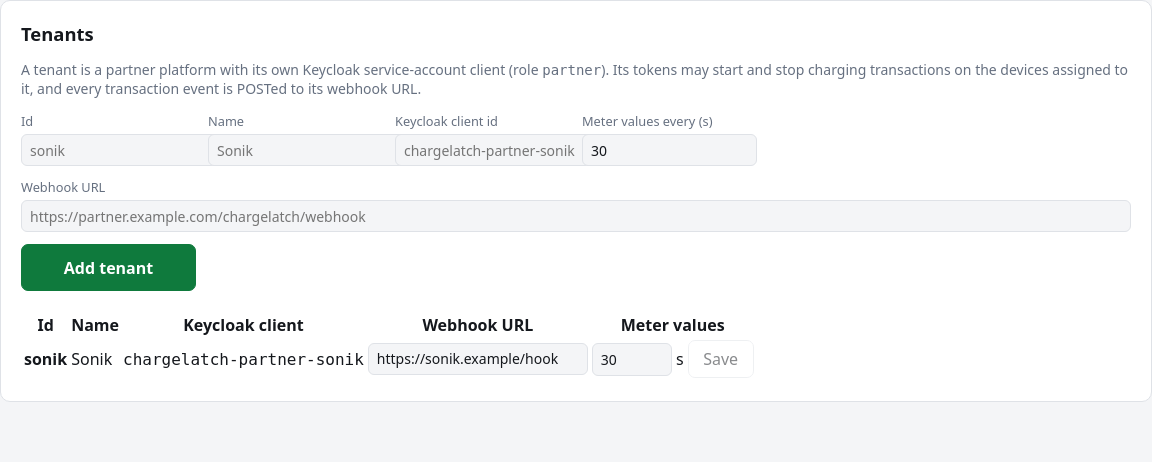
Test case: lists tenants and adds one through the form
Check: the text "chargelatch-partner-sonik" is shown, box [123,350,364,369]
Type "acme" into the field labelled "Id" at (131, 150), box [21,134,241,166]
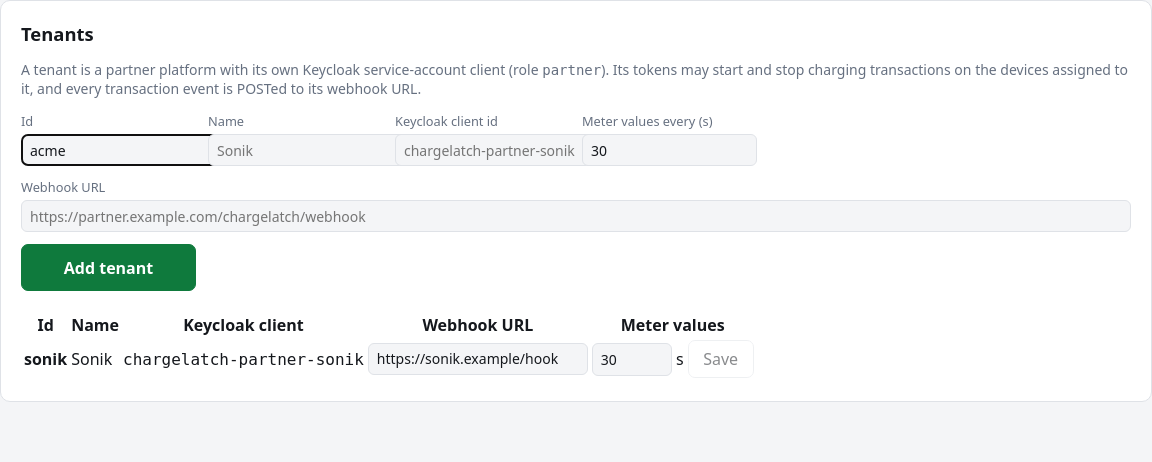
Type "Acme Charging" into the field labelled "Name" at (318, 150), box [208,134,428,166]
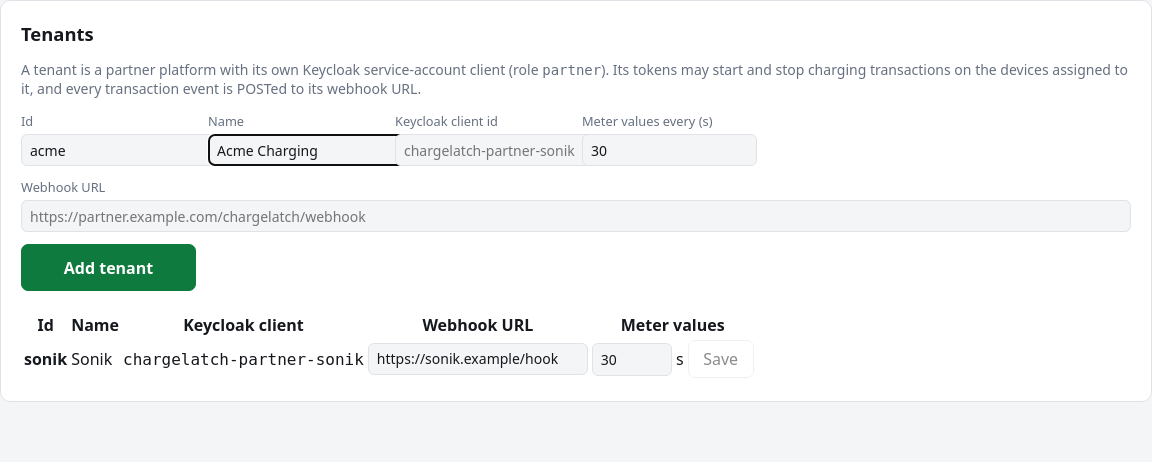
Type "chargelatch-partner-acme" into the field labelled "Keycloak client id" at (505, 150), box [395,134,615,166]
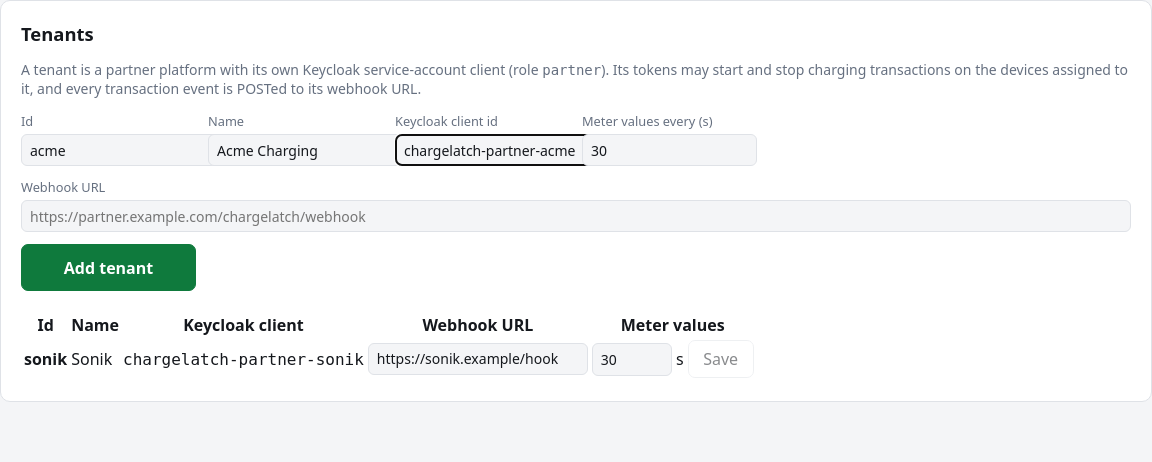
Type "https://acme.example/hook" into the field labelled "Webhook URL" at (576, 216), box [21,200,1131,232]
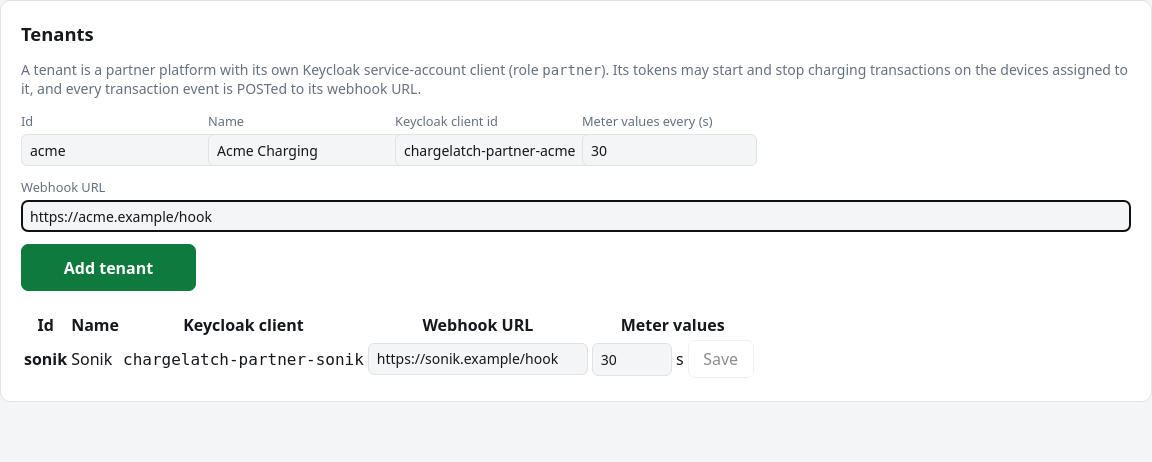
Click the button "Add tenant" at (108, 268), box [21,244,196,291]
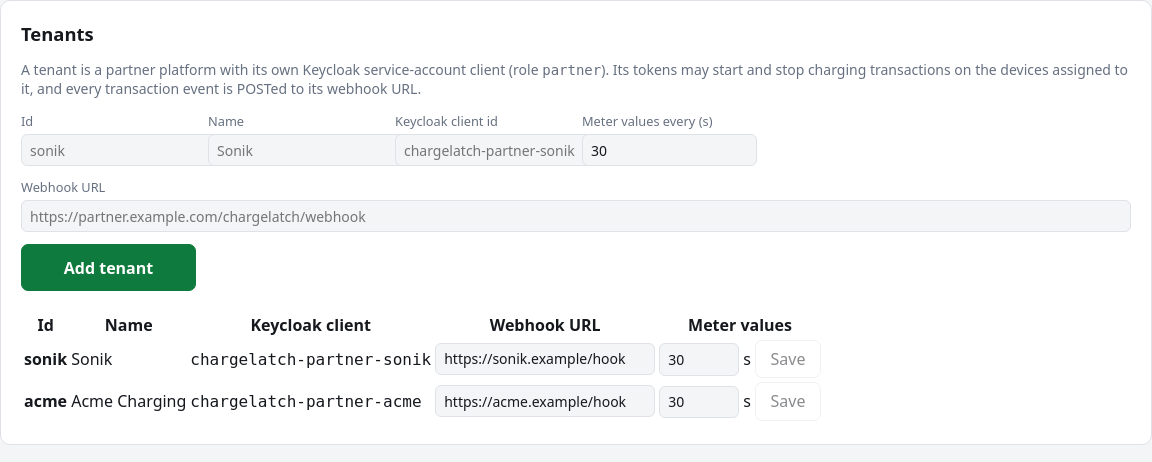
Check: the cell "Acme Charging" is shown, box [70,381,187,422]
Check: the field labelled "Id" is empty, box [21,134,241,166]
